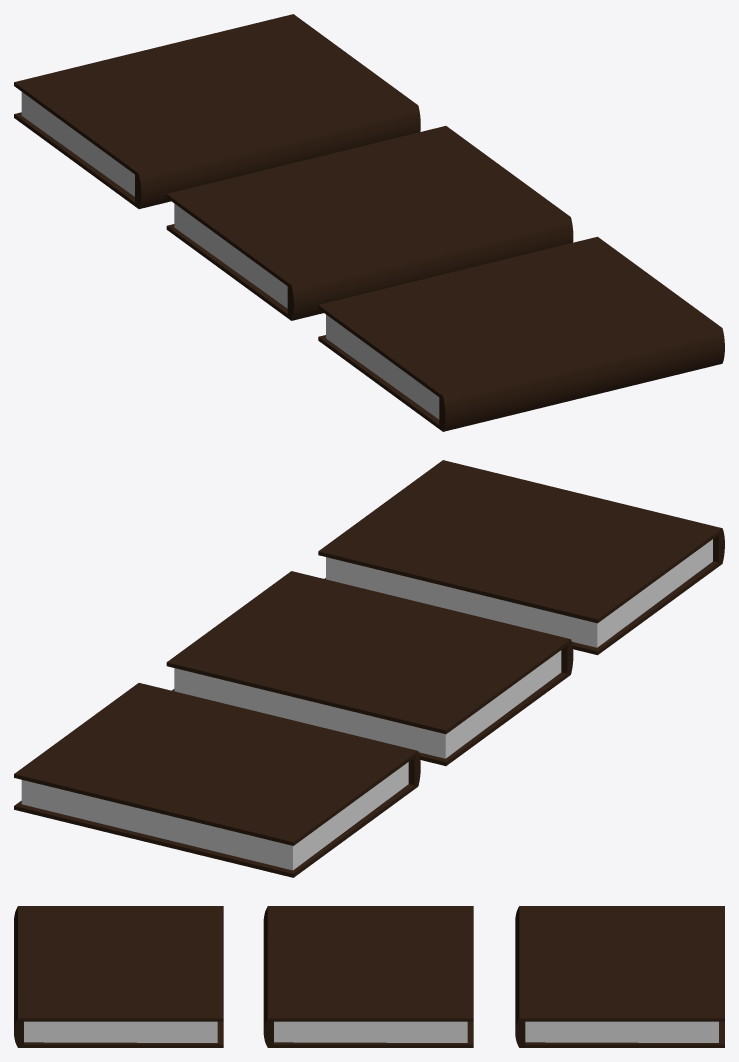
Rendered from BooksFinal.fbx.
3 renders of one model, top to bottom at view 1: azimuth 30°, elevation 25°; view 2: azimuth 150°, elevation 25°; view 3: azimuth 270°, elevation 25°, orthographic. The views are drawn at different scales.
Parts seen in each view (by area): view 1: TemblorBook, SmugglerBook, RaBook; view 2: SmugglerBook, RaBook, TemblorBook; view 3: RaBook, TemblorBook, SmugglerBook.
Part boxes in pixels (bbox=[...]): TemblorBook: bbox=[318, 236, 724, 431]; SmugglerBook: bbox=[14, 14, 420, 208]; RaBook: bbox=[166, 126, 573, 320]; SmugglerBook: bbox=[14, 683, 420, 877]; RaBook: bbox=[166, 571, 573, 765]; TemblorBook: bbox=[318, 460, 724, 655]; RaBook: bbox=[263, 906, 473, 1047]; TemblorBook: bbox=[14, 906, 223, 1047]; SmugglerBook: bbox=[515, 906, 724, 1047].
Bounding box in the file's own units: 27.9 × 3.4 × 74.58.
